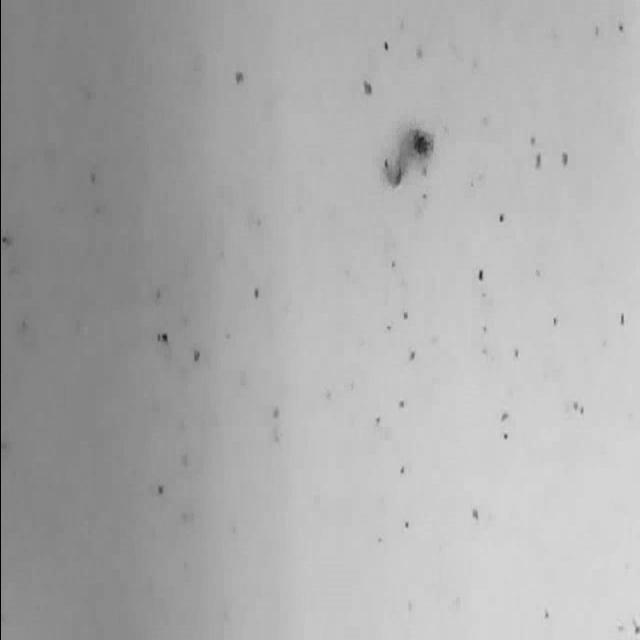larvas: (382, 126, 434, 187)
